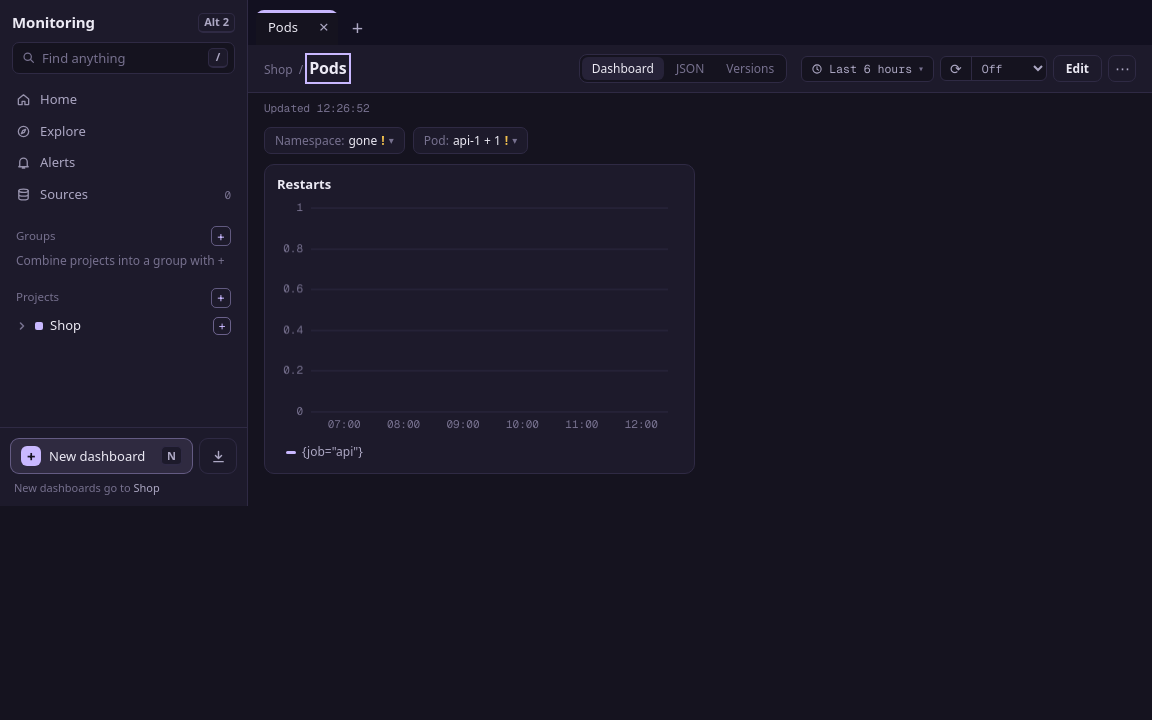
Test: Dashboard variables › a value that disappeared stays selected and says so
The image size is (1152, 720).
Expected: the button "Pod: api-1 + 1 ! ▾" is shown, [413,127,528,154]
Click the button "Namespace: gone ! ▾" at (334, 141), box [264,127,405,154]
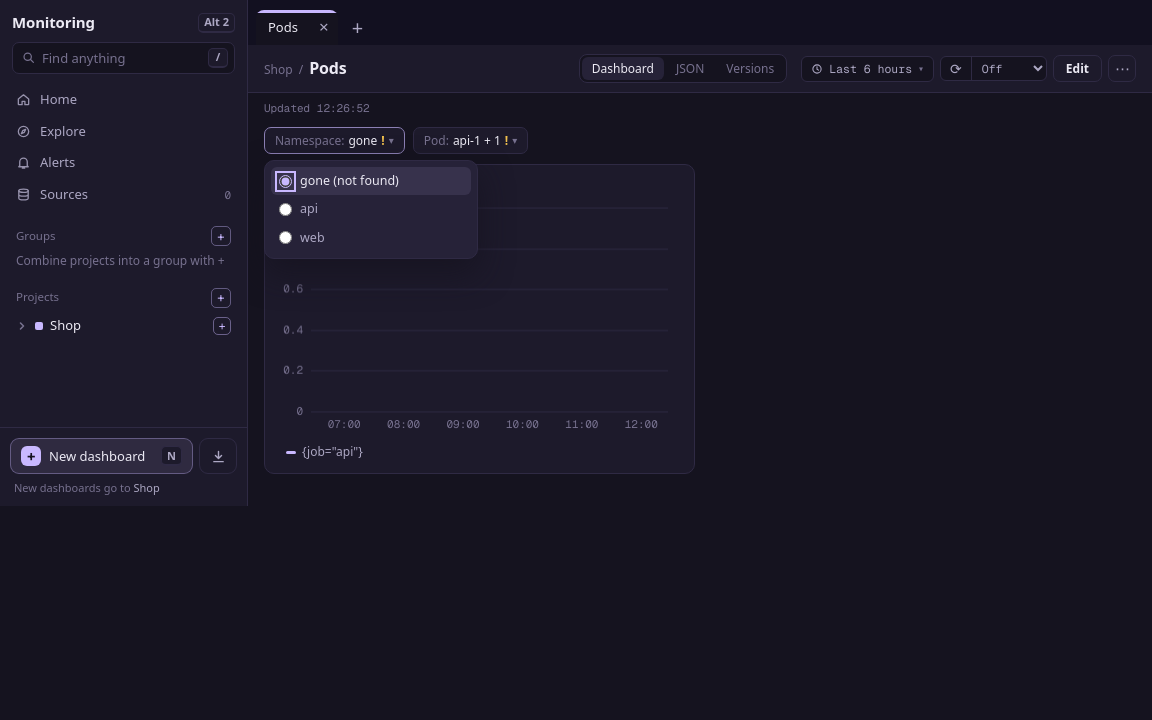
Now the radio button labelled "gone (not found)" is checked, box [279,175,292,188]
Press Escape
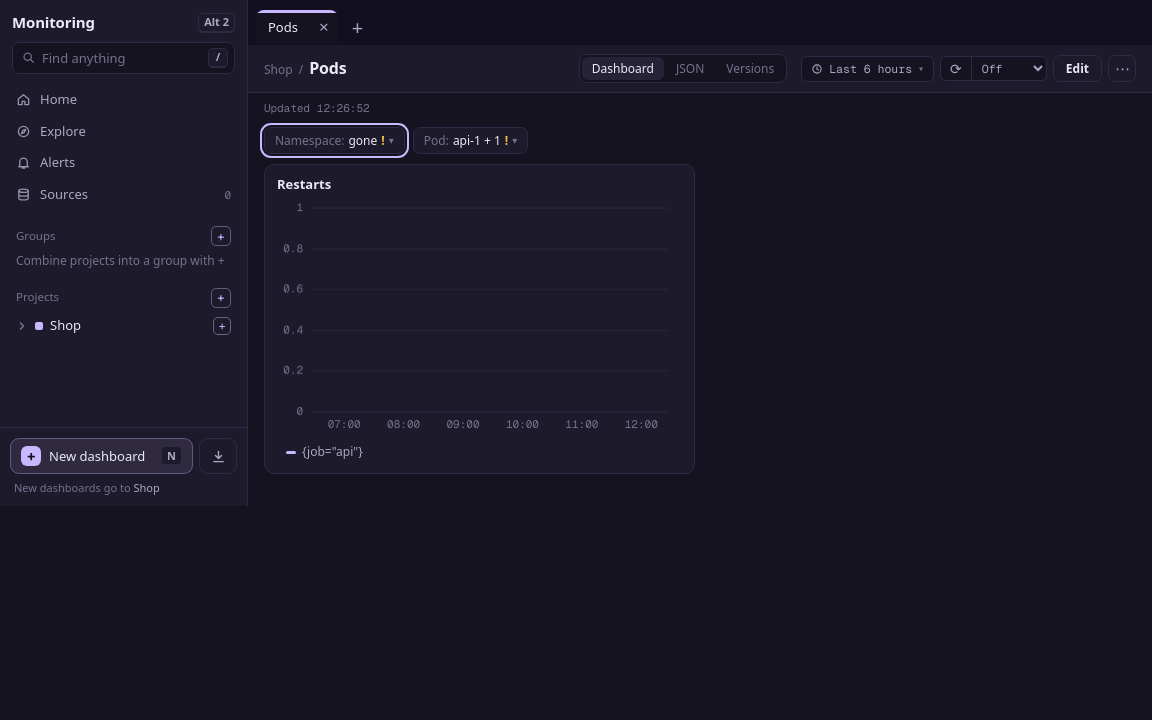
Click the button "Pod: api-1 + 1 ! ▾" at (471, 141), box [413,127,528,154]
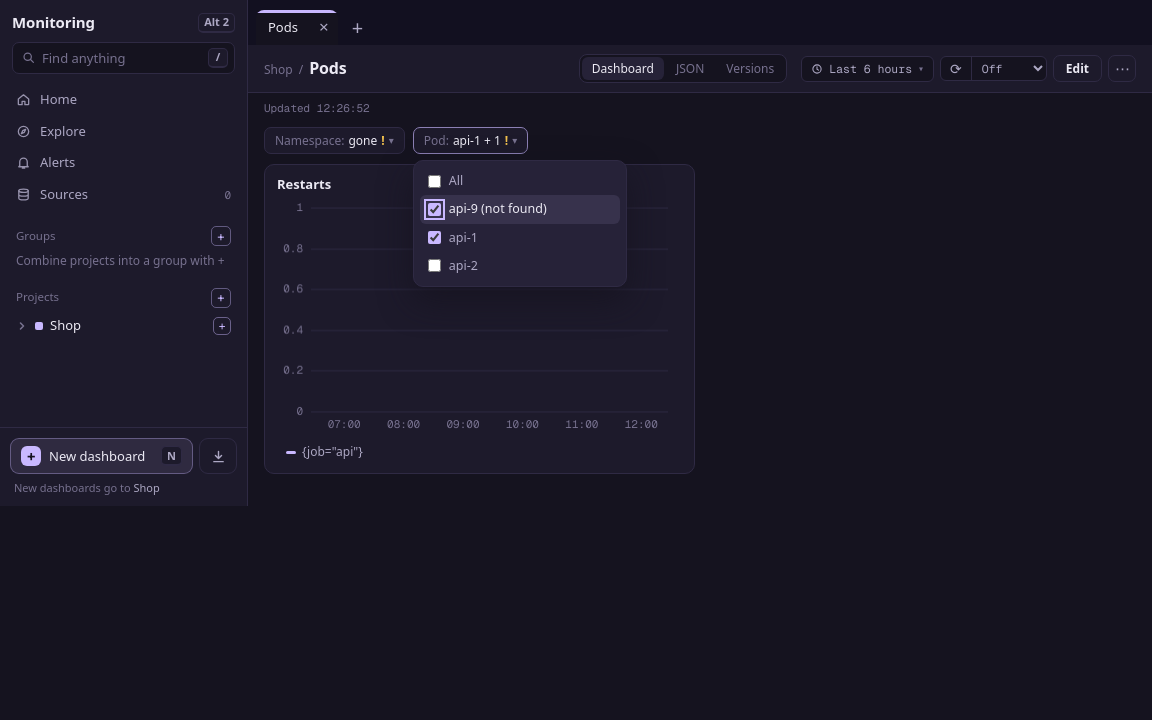
Now the checkbox labelled "api-9 (not found)" is checked, box [428,203,441,216]
Now the checkbox labelled "api-1" is checked, box [428,231,441,244]
Now the checkbox labelled "All" is not checked, box [428,175,441,188]
